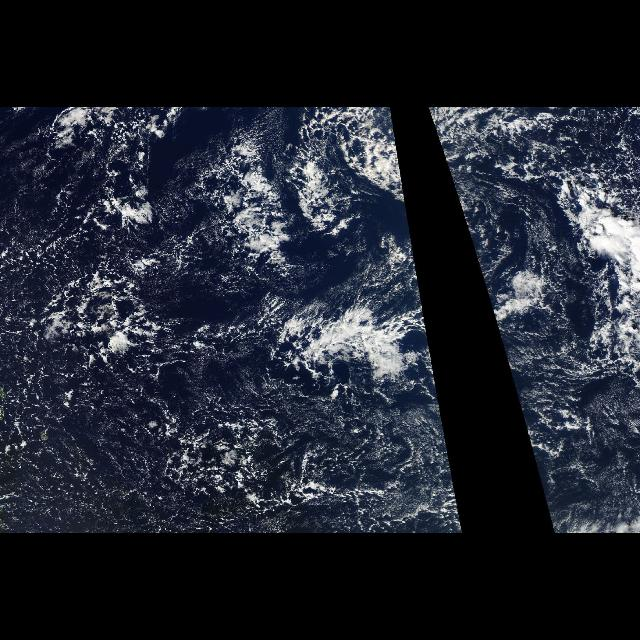Fish: (225, 109, 417, 263), (428, 109, 530, 263)
Gravel: (16, 123, 394, 531), (549, 118, 637, 220)
